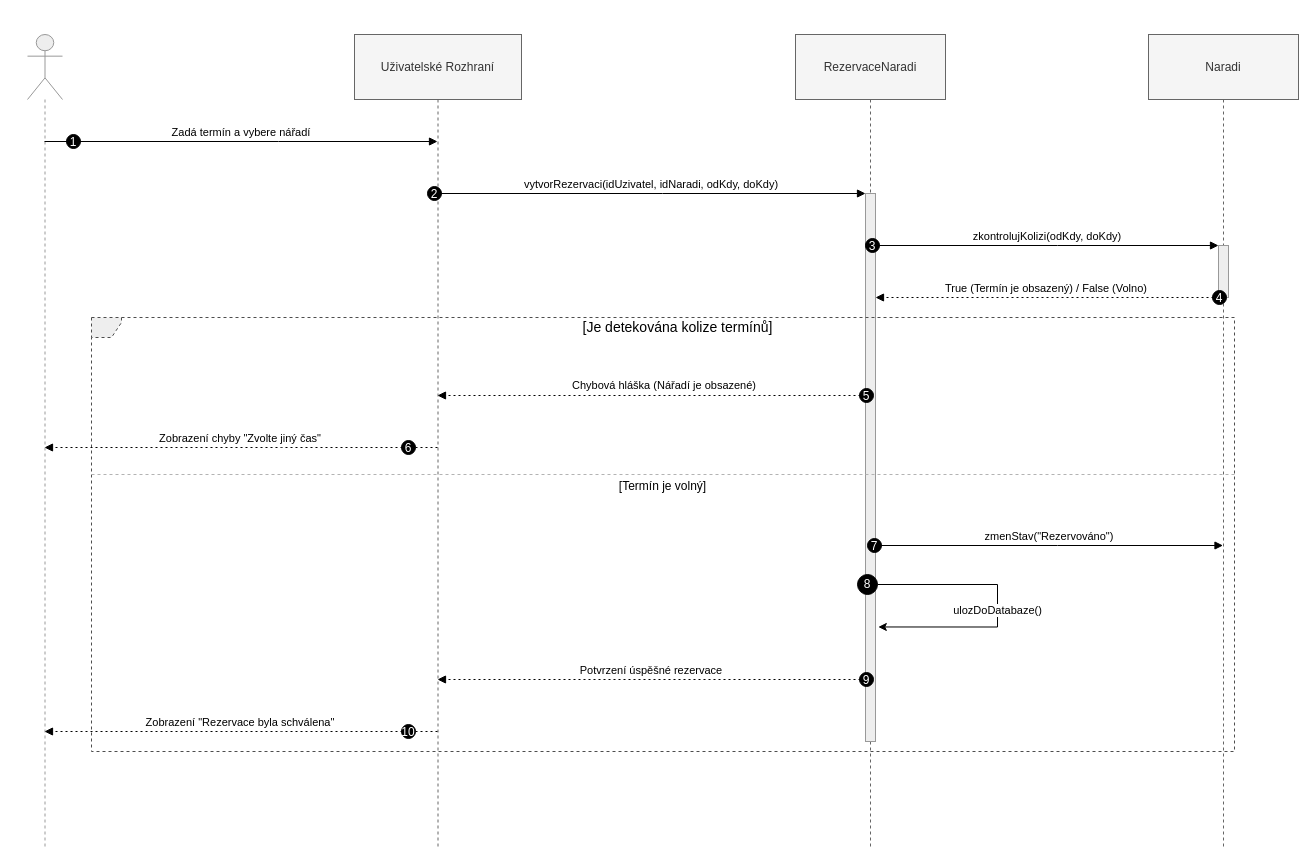
Image size: 1316x864. Some labels were removed from this diagram. Each missing label, with the box of its shape:
alt: (90, 316, 1234, 752)
Zahrádkář: (26, 34, 62, 846)
